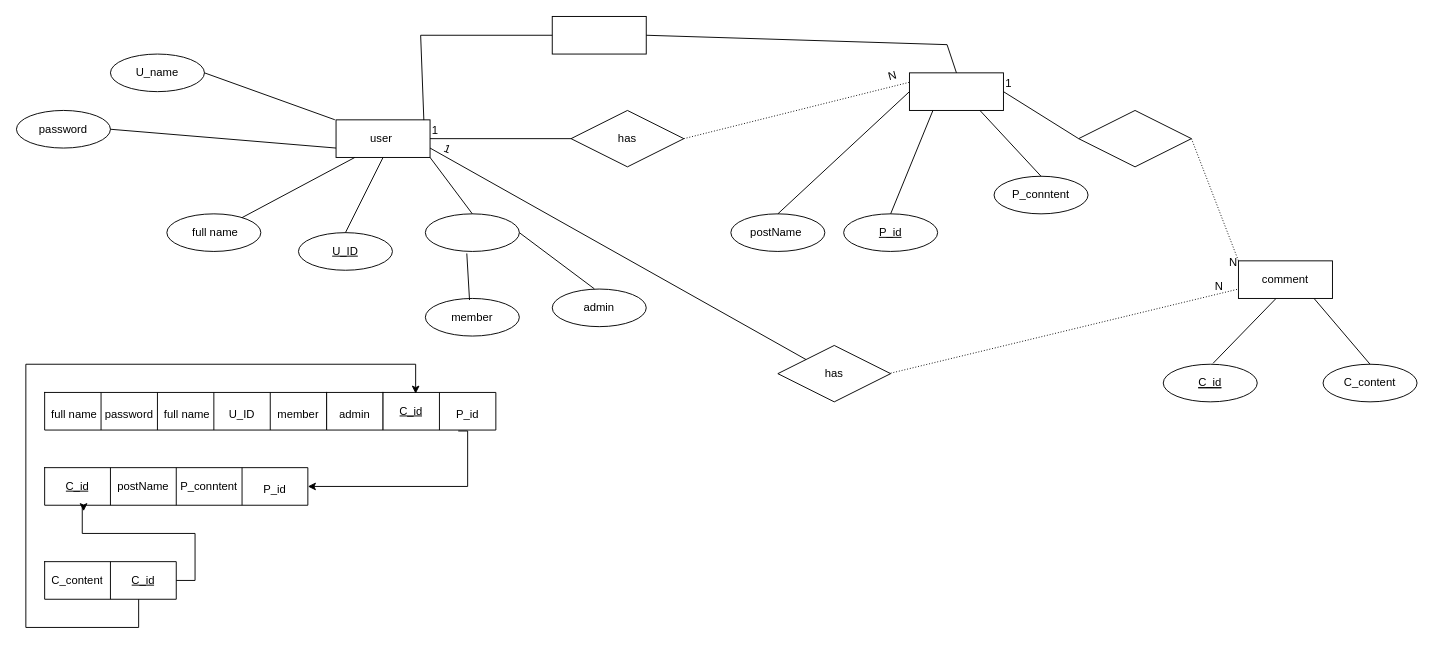
Image size: 1434x651. Some labels were removed from this diagram. Each missing label, with the centre of its shape:
post: pixel 956 91
role: pixel 471 232
Social media: pixel 598 35
wright: pixel 1134 138
